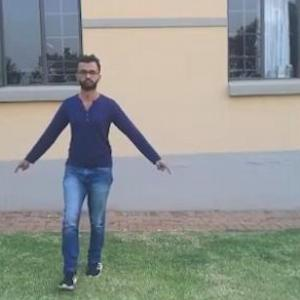land: (27, 72, 152, 245)
